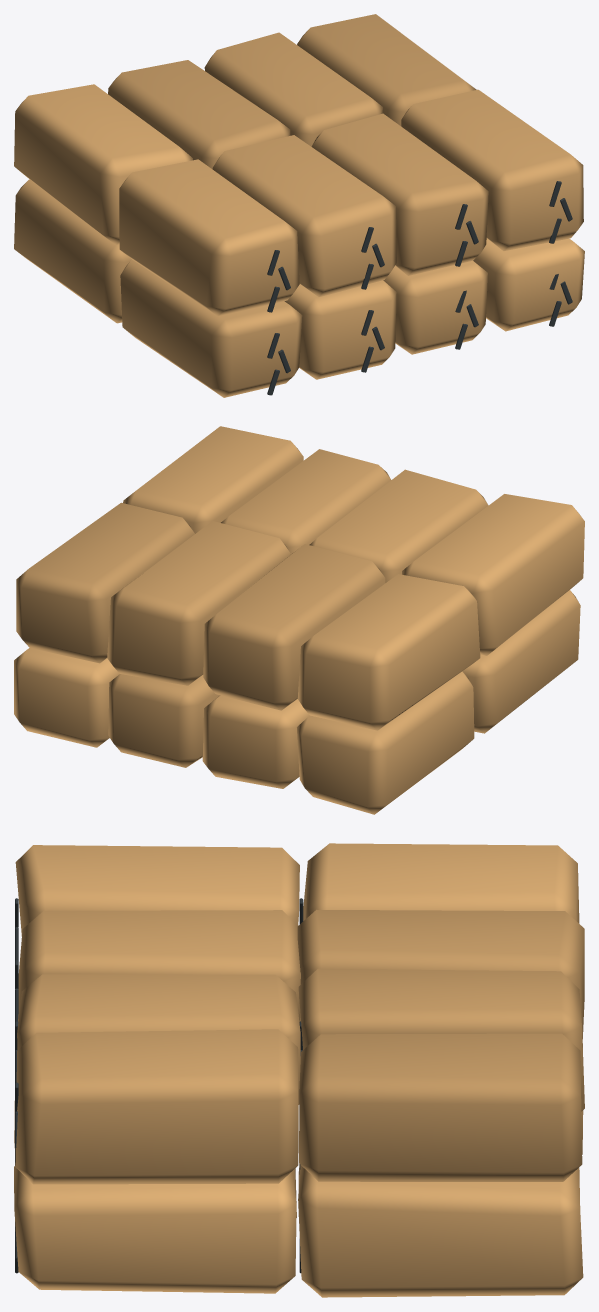
The model's file is NJD-08.glb.
3 views of the same model, one above another, from view 1: azimuth 30°, elevation 25°; view 2: azimuth 150°, elevation 25°; view 3: azimuth 270°, elevation 25° (orthographic). The views are drawn at different scales.
Visible parts, largest first — view 1: hand-shaped masonry.008, hand-shaped masonry.010, hand-shaped masonry.014, hand-shaped masonry.009, hand-shaped masonry.012, hand-shaped masonry, hand-shaped masonry.011, hand-shaped masonry.013, hand-shaped masonry.015, hand-shaped masonry.001, hand-shaped masonry.002, hand-shaped masonry.006 (+1 smaller); view 2: hand-shaped masonry.009, hand-shaped masonry.011, hand-shaped masonry.013, hand-shaped masonry.008, hand-shaped masonry.015, hand-shaped masonry.001, hand-shaped masonry.014, hand-shaped masonry.010, hand-shaped masonry.012, hand-shaped masonry, hand-shaped masonry.007, hand-shaped masonry.005 (+1 smaller); view 3: hand-shaped masonry.014, hand-shaped masonry.015, hand-shaped masonry.007, hand-shaped masonry.006, hand-shaped masonry.008, hand-shaped masonry.010, hand-shaped masonry.013, hand-shaped masonry.009, hand-shaped masonry.011, hand-shaped masonry.012.
Part boxes in pixels (bbox=[...]): hand-shaped masonry.008: bbox=[119, 159, 299, 316]; hand-shaped masonry.010: bbox=[212, 135, 396, 296]; hand-shaped masonry.014: bbox=[401, 89, 583, 250]; hand-shaped masonry.009: bbox=[14, 84, 192, 244]; hand-shaped masonry.012: bbox=[311, 113, 488, 275]; hand-shaped masonry: bbox=[120, 259, 302, 397]; hand-shaped masonry.011: bbox=[108, 60, 290, 169]; hand-shaped masonry.013: bbox=[204, 32, 382, 146]; hand-shaped masonry.015: bbox=[297, 14, 476, 126]; hand-shaped masonry.001: bbox=[14, 179, 131, 323]; hand-shaped masonry.002: bbox=[284, 280, 396, 379]; hand-shaped masonry.006: bbox=[473, 238, 584, 331]; hand-shaped masonry.009: bbox=[297, 574, 480, 730]; hand-shaped masonry.011: bbox=[203, 544, 385, 710]; hand-shaped masonry.013: bbox=[107, 521, 290, 685]; hand-shaped masonry.008: bbox=[402, 494, 584, 655]; hand-shaped masonry.015: bbox=[16, 502, 194, 663]; hand-shaped masonry.001: bbox=[297, 671, 474, 814]; hand-shaped masonry.014: bbox=[123, 426, 303, 533]; hand-shaped masonry.010: bbox=[309, 469, 488, 582]; hand-shaped masonry.012: bbox=[221, 449, 390, 553]; hand-shaped masonry: bbox=[462, 590, 580, 733]; hand-shaped masonry.007: bbox=[14, 648, 119, 747]; hand-shaped masonry.005: bbox=[108, 674, 219, 767]; hand-shaped masonry.014: bbox=[15, 1029, 298, 1184]; hand-shaped masonry.015: bbox=[299, 1033, 582, 1181]; hand-shaped masonry.007: bbox=[298, 1165, 583, 1297]; hand-shaped masonry.006: bbox=[14, 1166, 296, 1293]; hand-shaped masonry.008: bbox=[15, 845, 299, 936]; hand-shaped masonry.010: bbox=[18, 910, 300, 1021]; hand-shaped masonry.013: bbox=[298, 968, 584, 1111]; hand-shaped masonry.009: bbox=[303, 843, 579, 923]; hand-shaped masonry.011: bbox=[297, 909, 584, 1038]; hand-shaped masonry.012: bbox=[17, 974, 300, 1104].
Bounding box in the file's own units: 1.93 × 0.8254 × 1.89.
